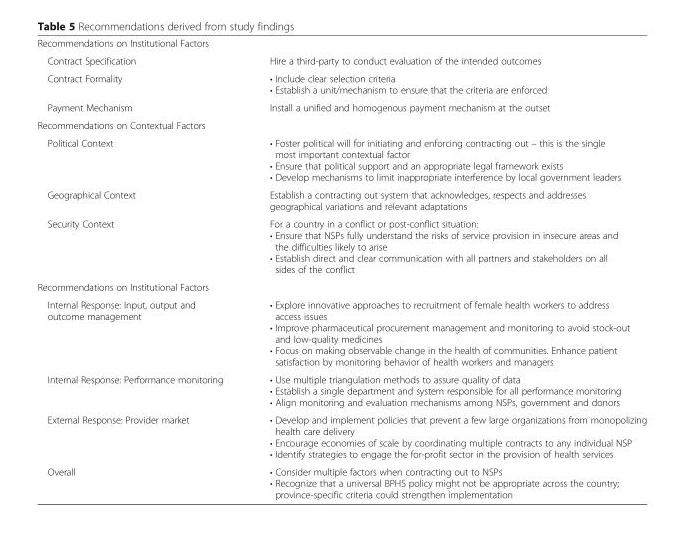table: (36, 37, 646, 499)
table column: (245, 37, 646, 499), (36, 37, 245, 499)
table projected row header: (36, 277, 646, 295), (36, 116, 646, 133), (36, 37, 646, 51)
table row: (36, 295, 646, 370), (36, 214, 646, 277), (36, 133, 646, 185), (36, 410, 646, 462), (36, 370, 646, 410), (36, 462, 646, 499), (36, 69, 646, 98), (36, 185, 646, 214), (36, 51, 646, 69), (36, 98, 646, 116), (36, 277, 646, 295), (36, 116, 646, 133), (36, 37, 646, 51)
